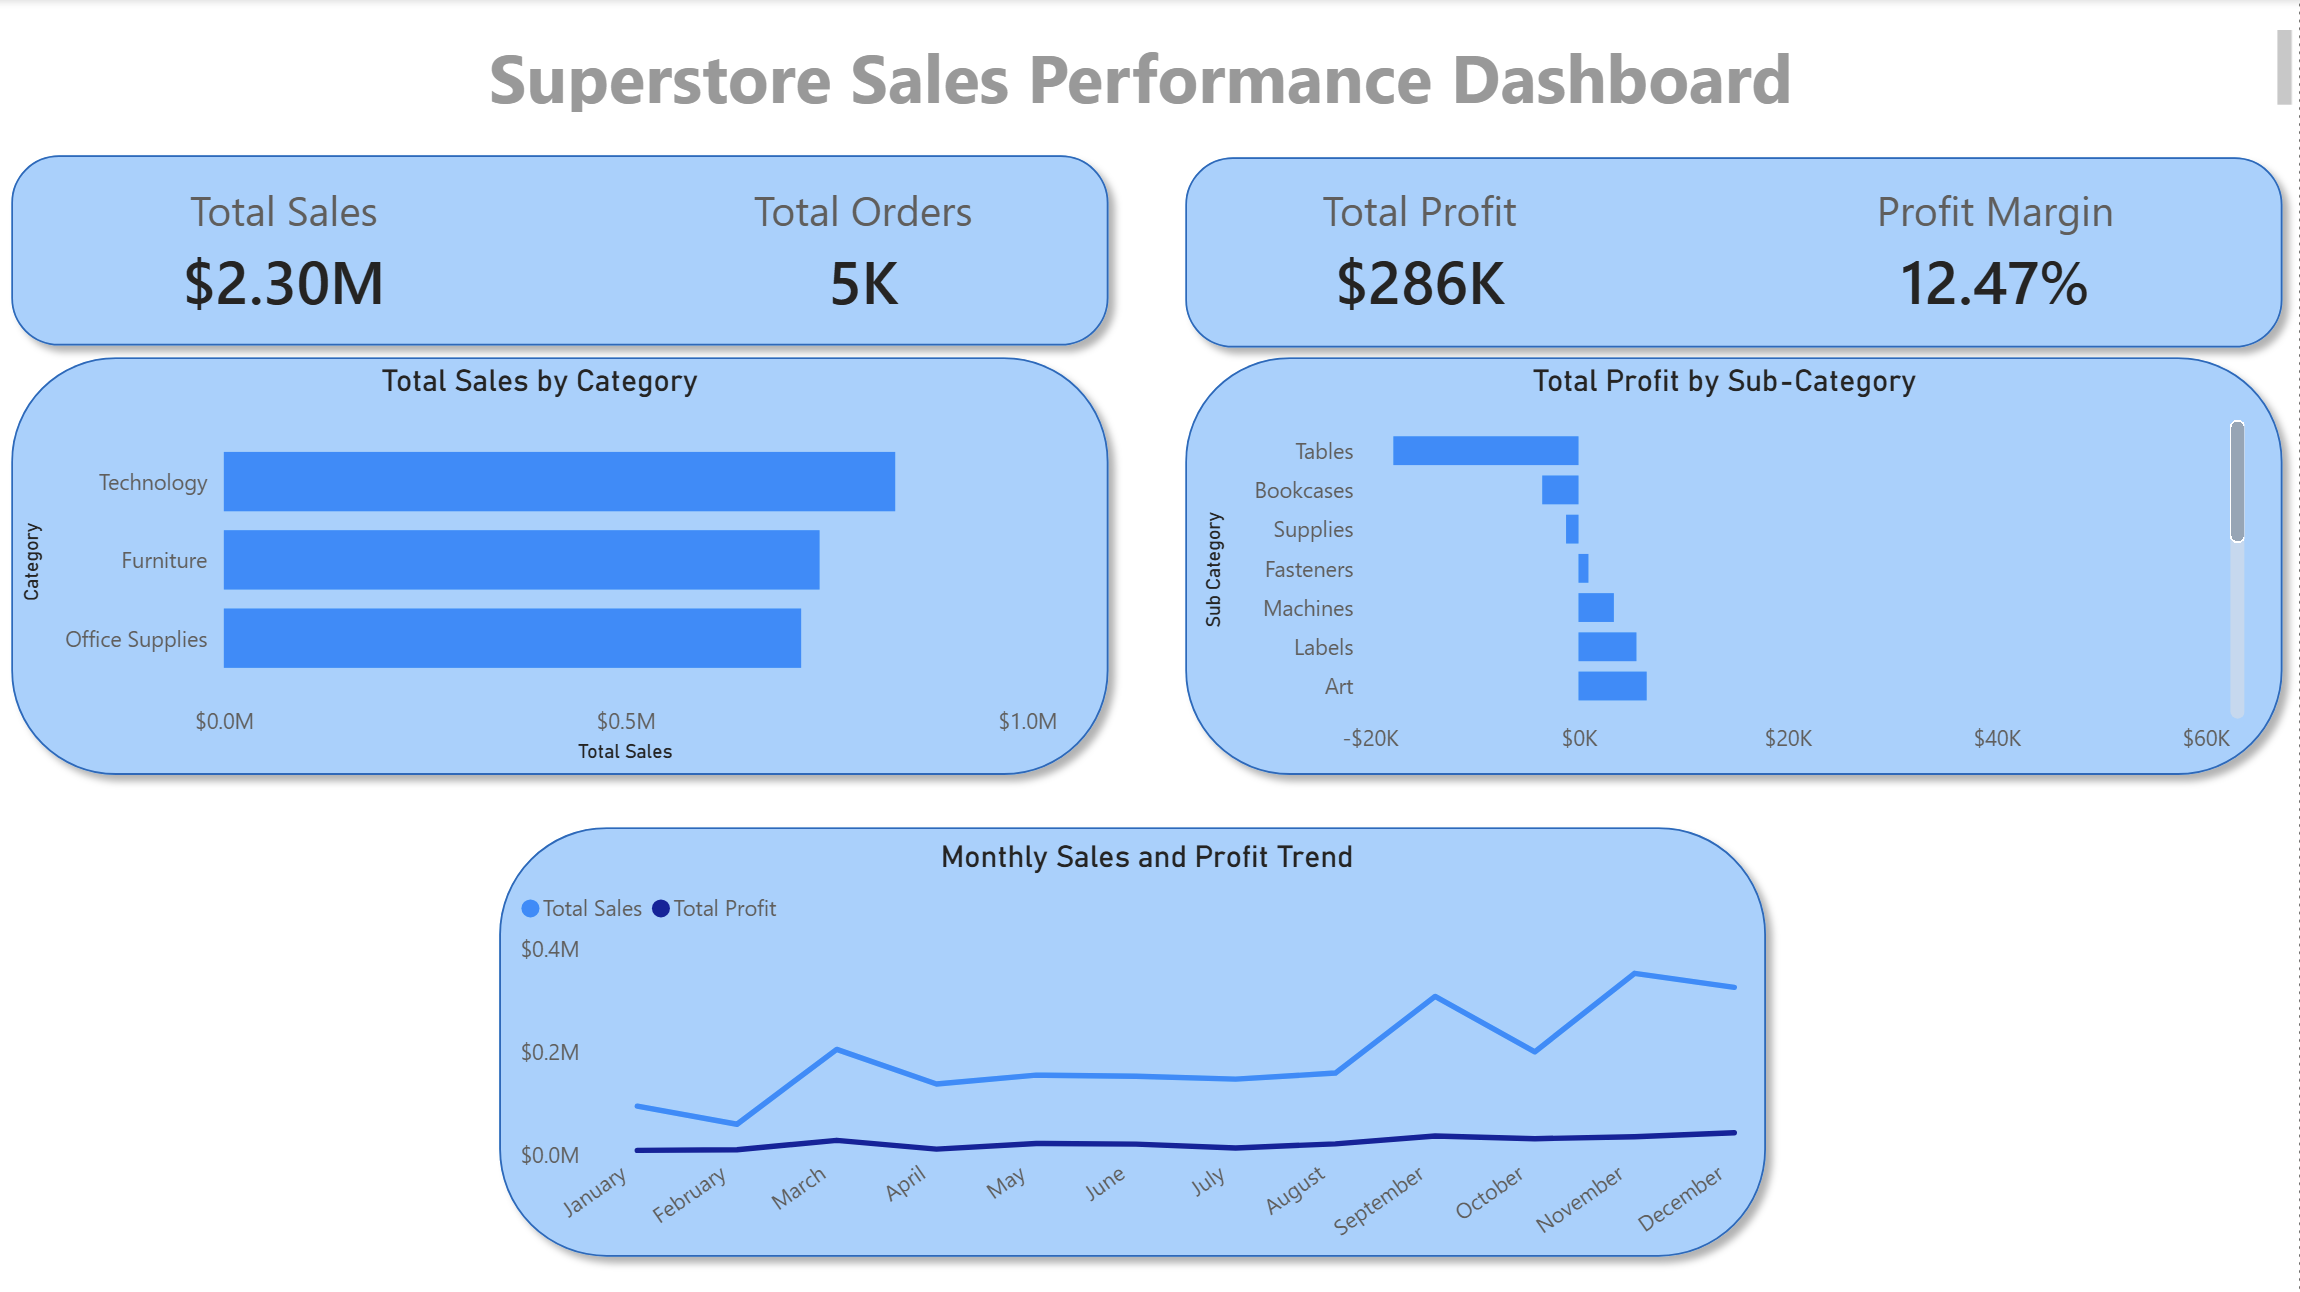

The page's visual inventory and layout, read from the dashboard file:
{"tool":"powerbi","page":{"name":"Executive Overview","canvas":[1280,720],"ordinal":0},"visuals":[{"type":"shape","box":[0,78,627.6,123.8],"z":0,"group":"g1"},{"type":"group","id":"g1","title":"Background","box":[0,78,1280,630.3],"z":0},{"type":"shape","box":[652.4,79.2,627.6,123.8],"z":1000,"group":"g1"},{"type":"cardVisual","fields":{"Data":["Measures .Total Sales"]},"box":[0,52,321.9,175.8],"z":1000},{"type":"cardVisual","fields":{"Data":["Measures .Total Orders"]},"box":[323.1,52,318.1,175.8],"z":2000},{"type":"shape","box":[0,190.6,627.6,250.1],"z":2000,"group":"g1"},{"type":"cardVisual","fields":{"Data":["Measures .Total Profit"]},"box":[640,52,303.3,175.8],"z":3000},{"type":"shape","box":[652.4,190.6,627.6,250.1],"z":3000,"group":"g1"},{"type":"cardVisual","fields":{"Data":["Measures .Profit Margin"]},"box":[943.3,52,336.7,175.8],"z":4000},{"type":"shape","box":[271.6,451.7,721.8,256.6],"z":4000,"group":"g1"},{"type":"textbox","box":[0,12.4,1281.2,55.7],"z":5000},{"type":"lineChart","title":"Monthly Sales and Profit Trend","fields":{"Category":["superstore_orders.Order_Date.Variation.Date Hierarchy.Month"],"Y":["Measures .Total Sales","Measures .Total Profit"]},"box":[286.6,466.7,706.8,241.6],"z":6000},{"type":"clusteredBarChart","title":"Total Sales by Category","fields":{"Category":["superstore_orders.Category"],"Y":["Measures .Total Sales"]},"box":[10.5,202.6,585.2,226.6],"z":7000},{"type":"clusteredBarChart","title":"Total Profit by Sub-Category","fields":{"Category":["superstore_orders.Sub_Category"],"Y":["Measures .Total Profit"]},"box":[666.3,202.6,588.2,226.6],"z":8000}]}

Visuals, with their boxes in screenshot pixels (x1, y1, x2, y2), scaled from the page's 1280x720 canvas onto the 2300x1292 screenshot:
shape: box(0, 140, 1128, 362)
"Background" group: box(0, 140, 2299, 1271)
shape: box(1172, 142, 2299, 364)
cardVisual - Measures .Total Sales: box(0, 93, 578, 409)
cardVisual - Measures .Total Orders: box(581, 93, 1152, 409)
shape: box(0, 342, 1128, 791)
cardVisual - Measures .Total Profit: box(1150, 93, 1695, 409)
shape: box(1172, 342, 2299, 791)
cardVisual - Measures .Profit Margin: box(1695, 93, 2299, 409)
shape: box(488, 811, 1785, 1271)
textbox: box(0, 22, 2299, 122)
"Monthly Sales and Profit Trend" lineChart: box(515, 837, 1785, 1271)
"Total Sales by Category" clusteredBarChart: box(19, 364, 1070, 770)
"Total Profit by Sub-Category" clusteredBarChart: box(1197, 364, 2254, 770)
